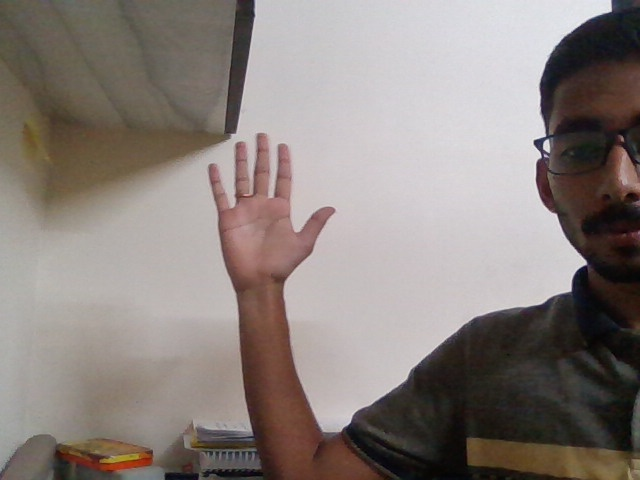Hello: (187, 115, 345, 319)
